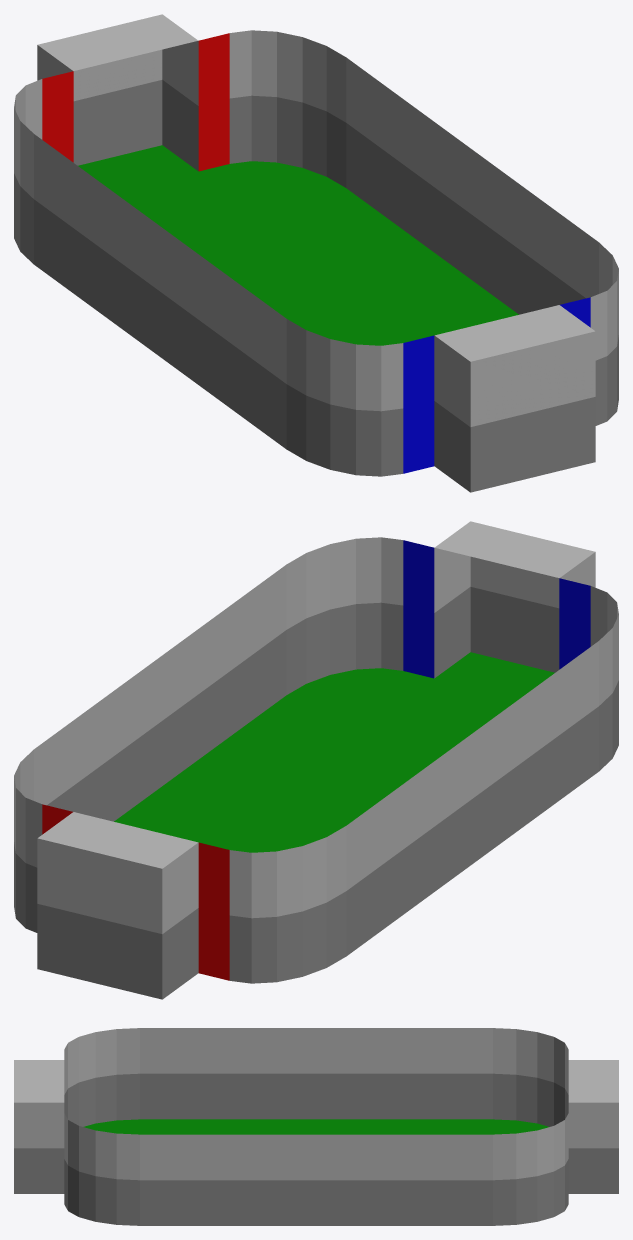
Rendered from Arena2.fbx.
3 renders of one model, top to bottom at view 1: azimuth 30°, elevation 25°; view 2: azimuth 150°, elevation 25°; view 3: azimuth 270°, elevation 25°, orthographic. The views are drawn at different scales.
Visible parts, largest first — view 1: pPlane11; view 2: pPlane11; view 3: pPlane11.
Boxes of the visible parts, x1,y1,x2,y2 form: pPlane11: [14, 14, 618, 492]; pPlane11: [14, 521, 618, 999]; pPlane11: [14, 1028, 618, 1225].
Size of the model in its own units: 5 by 2 by 12.
